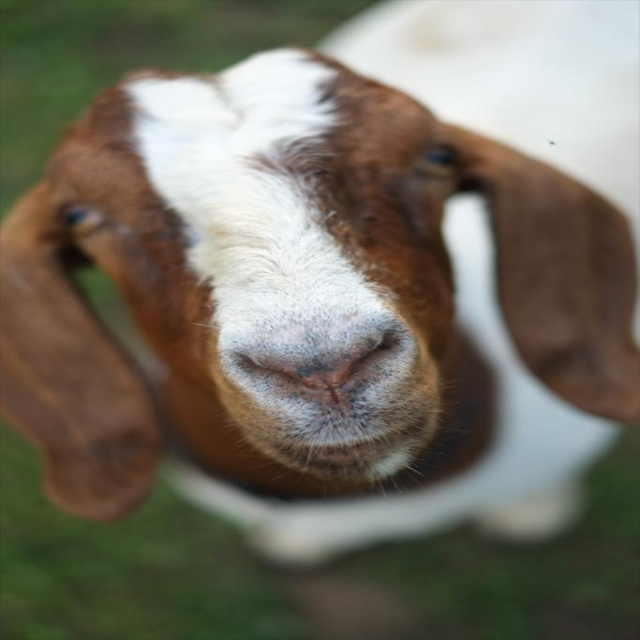Goat: (0, 1, 638, 577)
